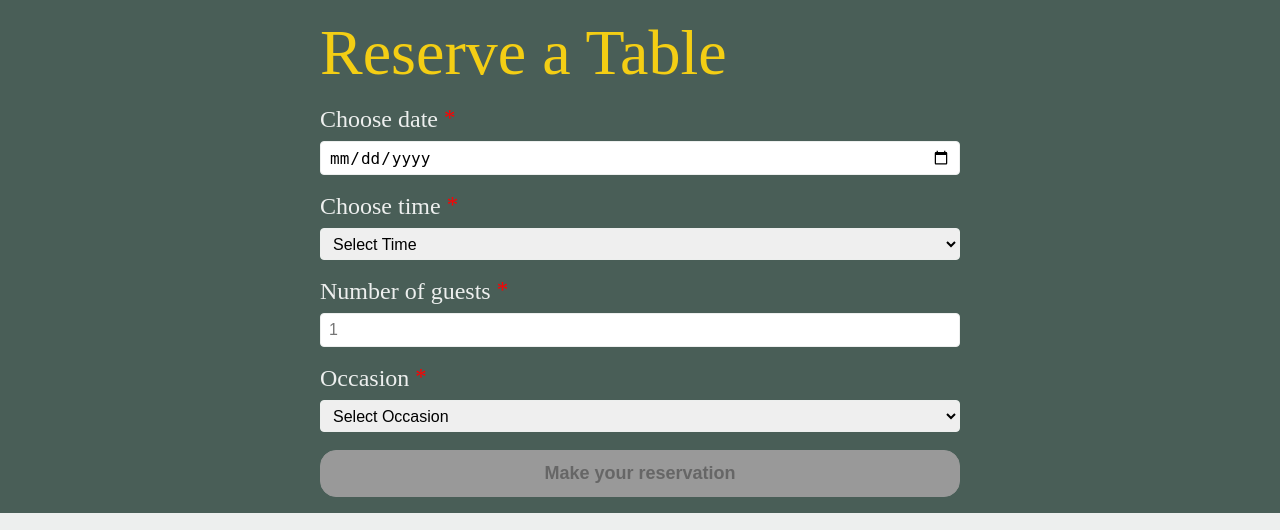
Test case: Testing the table booking form
This screenshot has width=1280, height=530.
Expected: the heading "Reserve a Table" is shown, [320, 17, 727, 88]
# Date input
Type "2024-03-22" into the date field titled "resDate". click: (640, 158)
box: [320, 141, 960, 175]
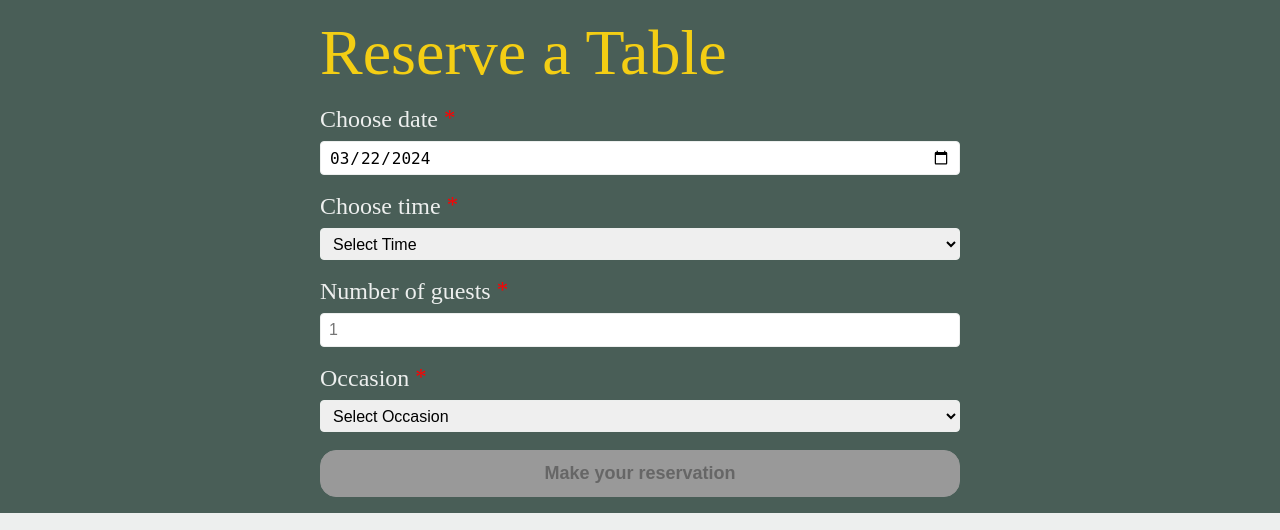
# Time input
Select "21:00" in the dropdown titled "resTime". click: (640, 244)
box: [320, 228, 960, 260]
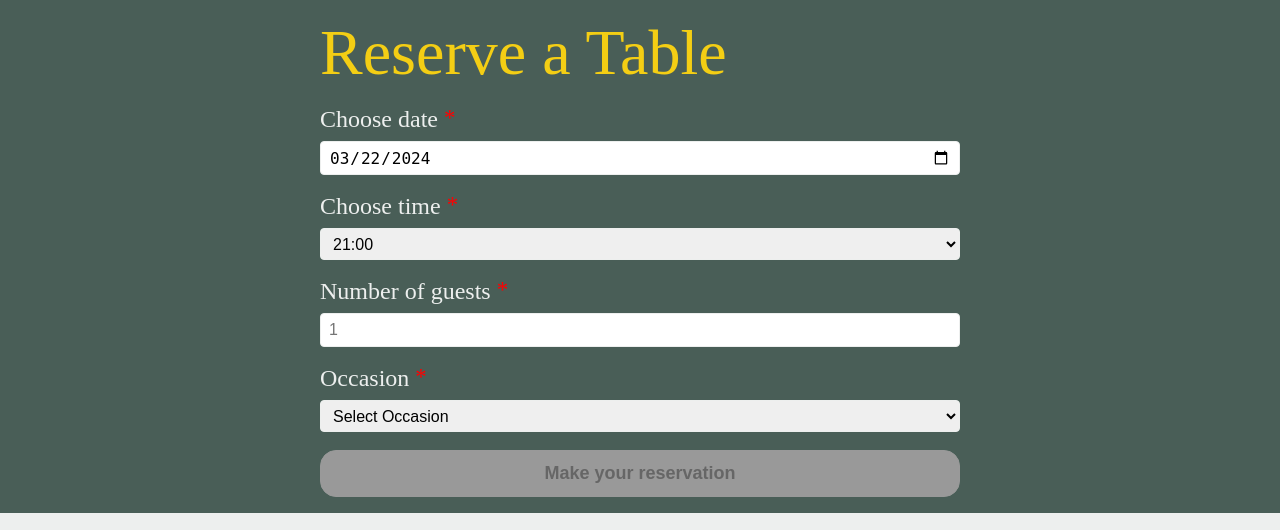
# Number input
Type "2" into the number field titled "guests". click: (640, 330)
box: [320, 313, 960, 347]
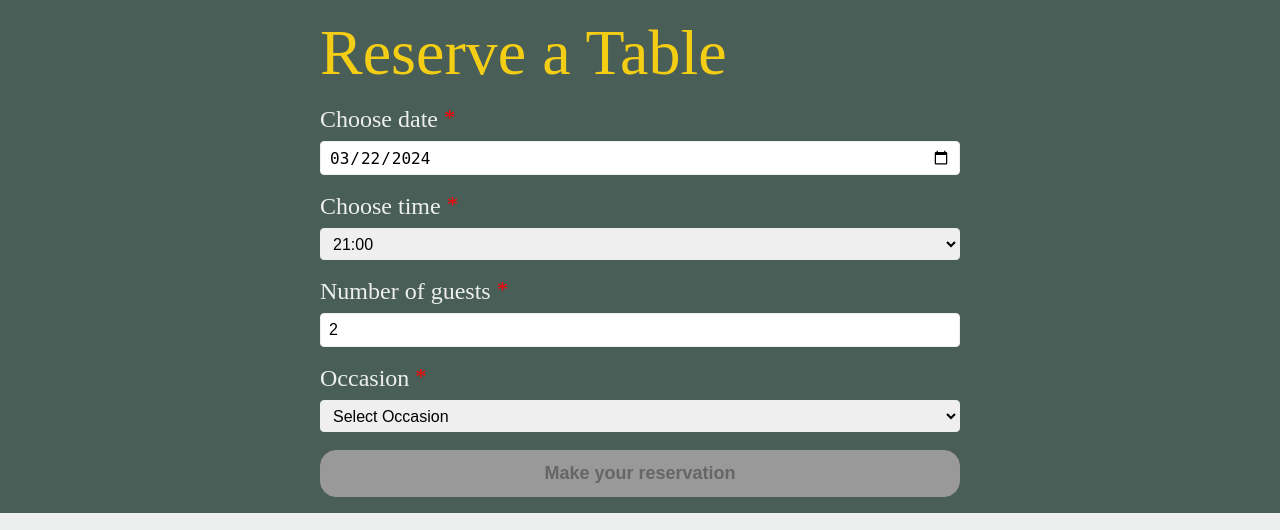
# Occassion input
Select "Birthday" in the dropdown titled "occasion". click: (640, 416)
box: [320, 400, 960, 432]
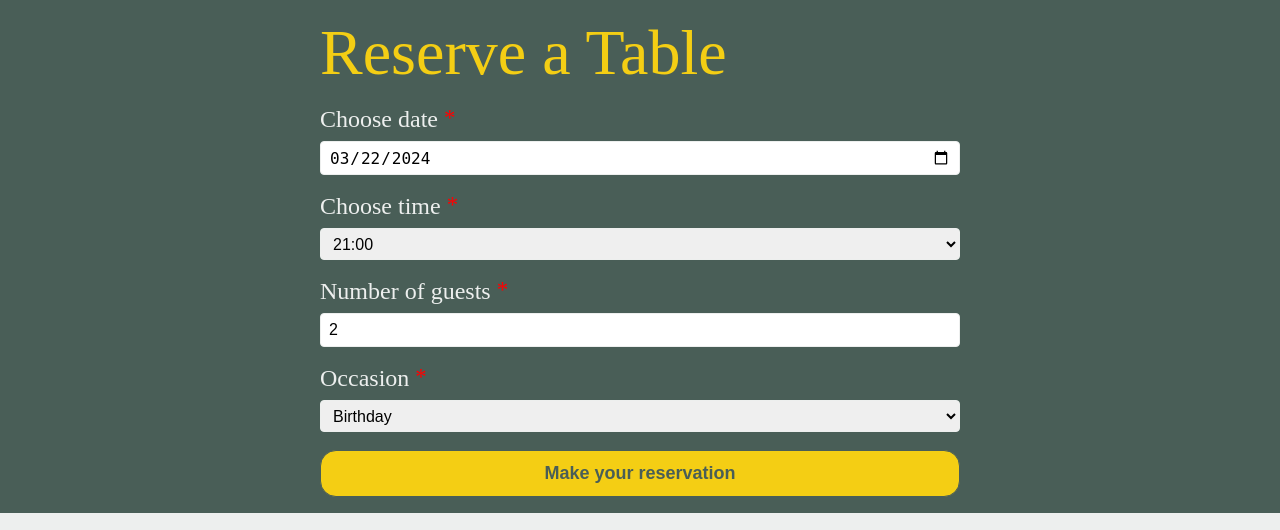
Result: the button is enabled at [320, 450, 960, 497]
